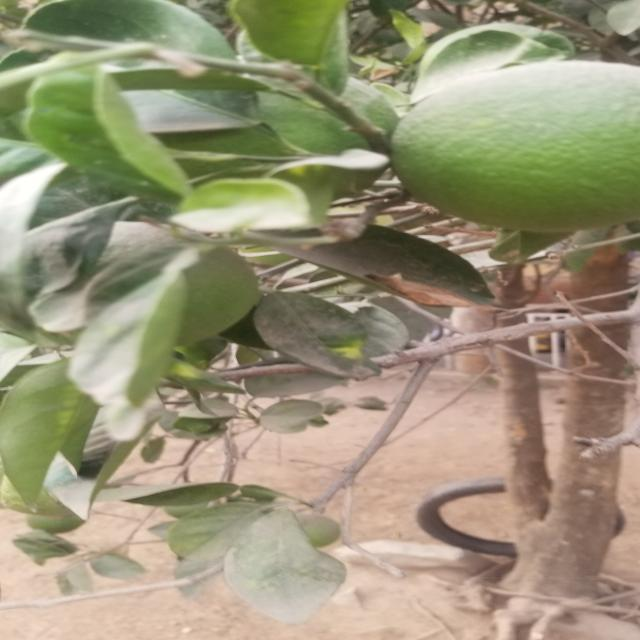Unripe: (359, 55, 640, 243)
